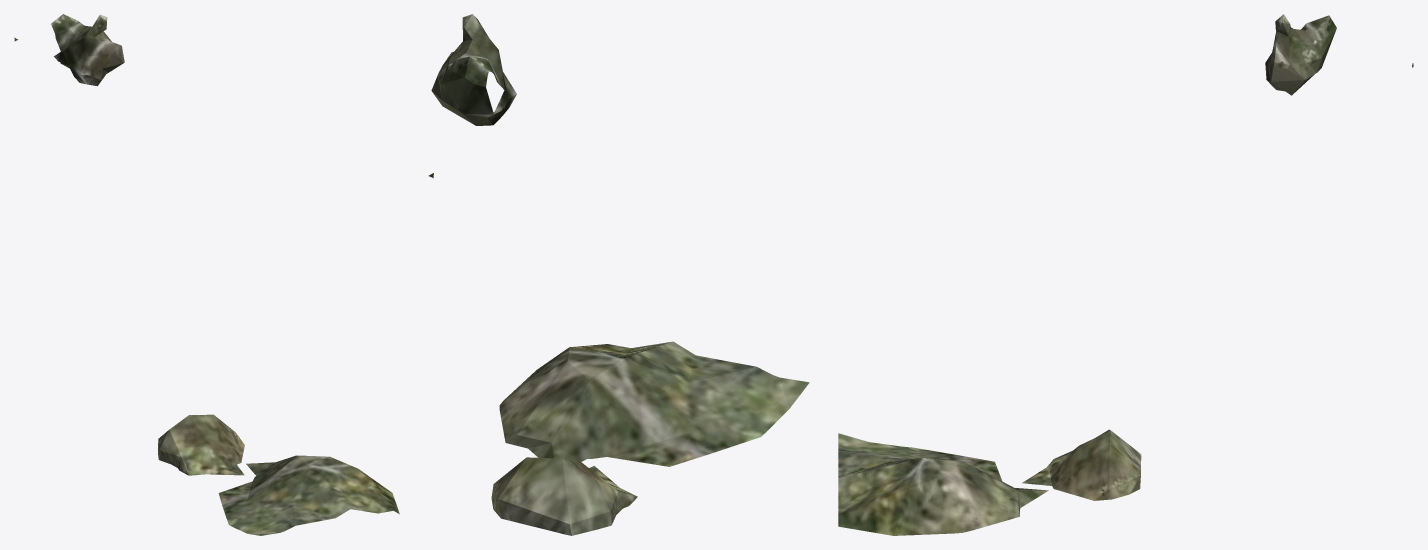
3 views of the same model, side by side, from view 1: azimuth 30°, elevation 25°; view 2: azimuth 150°, elevation 25°; view 3: azimuth 270°, elevation 25° (orthographic). The views are drawn at different scales.
Bounding box in the file's own units: 1.07 × 2.54 × 2.94.
Materials: 1 (1 with a texture image).
